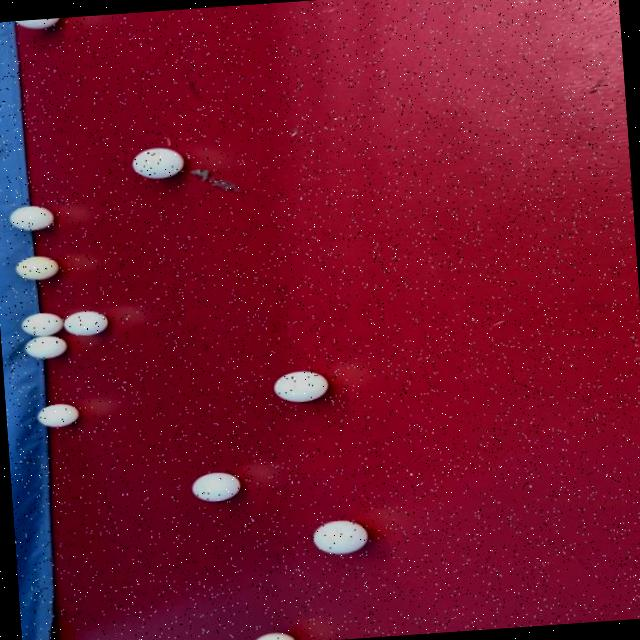ping-pong-ball: (127, 144, 189, 182), (272, 368, 332, 406), (311, 517, 371, 555), (190, 468, 243, 504), (6, 202, 60, 236), (11, 252, 63, 284), (61, 308, 112, 338), (22, 332, 72, 362), (36, 402, 84, 431), (18, 309, 66, 338), (12, 17, 64, 32), (248, 629, 303, 640)
